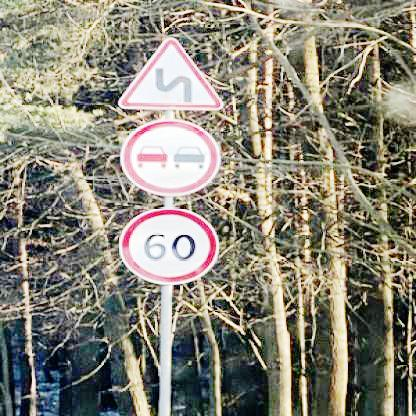Speed Limit -60-: (119, 208, 221, 284)
